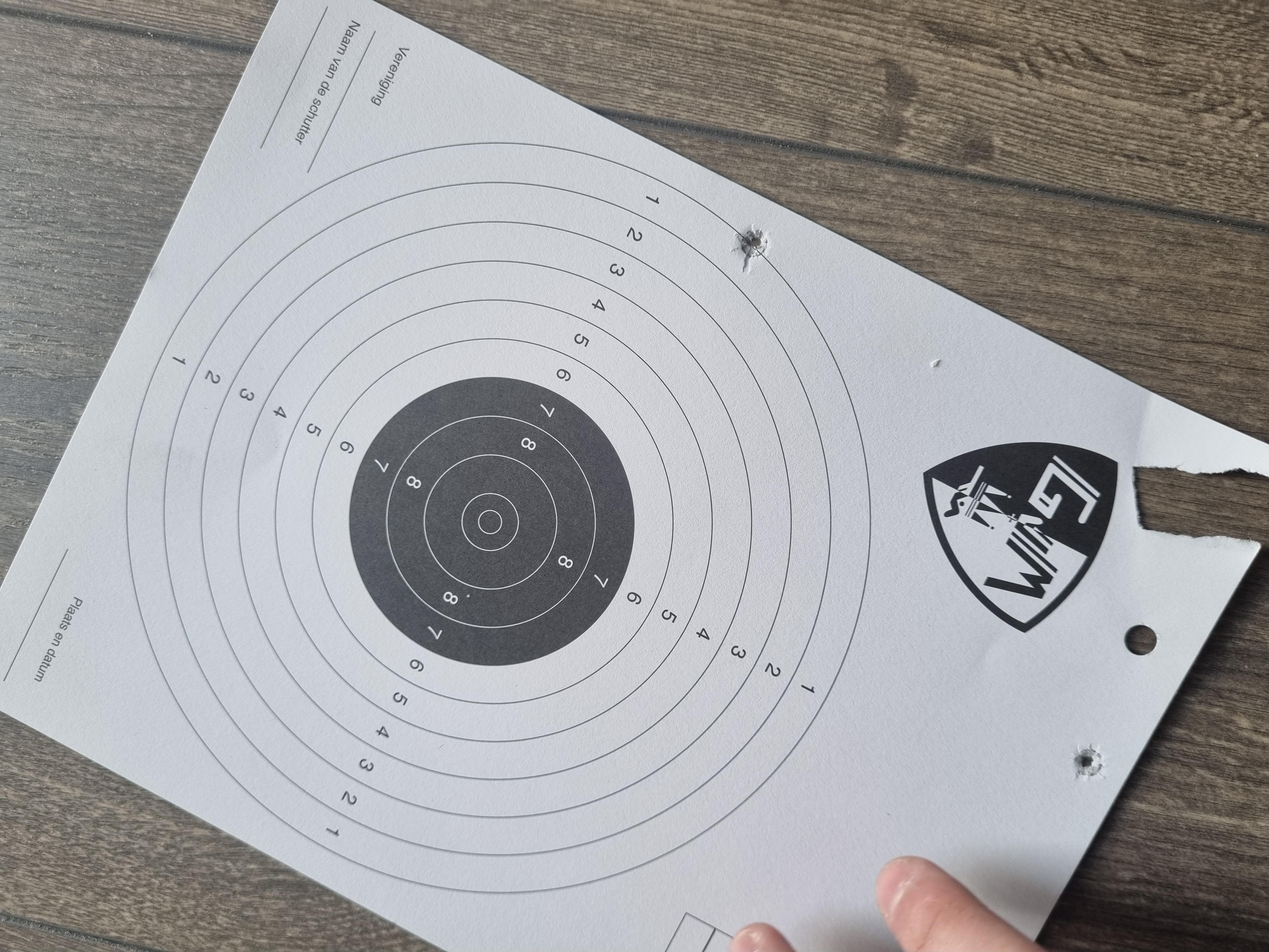hole: (226, 803, 275, 832), (925, 550, 970, 576)
